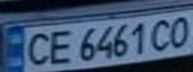1: (127, 20, 151, 55)
4: (93, 22, 118, 61)
6: (75, 25, 100, 62), (112, 20, 133, 58)
C: (18, 29, 54, 69), (148, 16, 175, 52)
E: (42, 26, 75, 65)
O: (163, 12, 193, 48)
